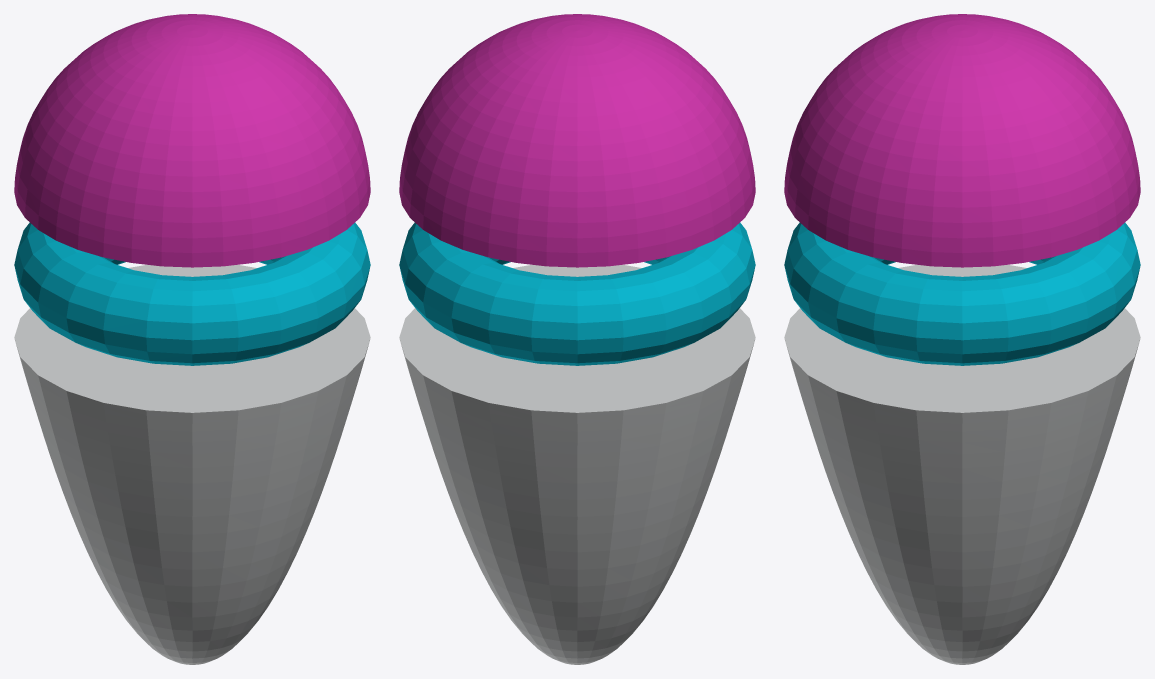
The model's file is robot.glb.
3 views of the same model, side by side, from view 1: azimuth 30°, elevation 25°; view 2: azimuth 150°, elevation 25°; view 3: azimuth 270°, elevation 25° (orthographic).
Parts seen in each view (by area): view 1: Mesh_Mesh_head_geo.001_lambert2SG.001; view 2: Mesh_Mesh_head_geo.001_lambert2SG.001; view 3: Mesh_Mesh_head_geo.001_lambert2SG.001.
Boxes of the visible parts, x1,y1,x2,y2 form: Mesh_Mesh_head_geo.001_lambert2SG.001: [14, 14, 370, 664]; Mesh_Mesh_head_geo.001_lambert2SG.001: [399, 14, 755, 664]; Mesh_Mesh_head_geo.001_lambert2SG.001: [784, 14, 1140, 664].
Bounding box in the file's own units: 20 × 39 × 20.
